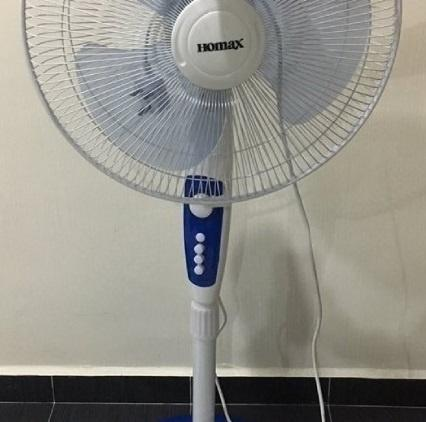fan: (10, 2, 419, 422)
